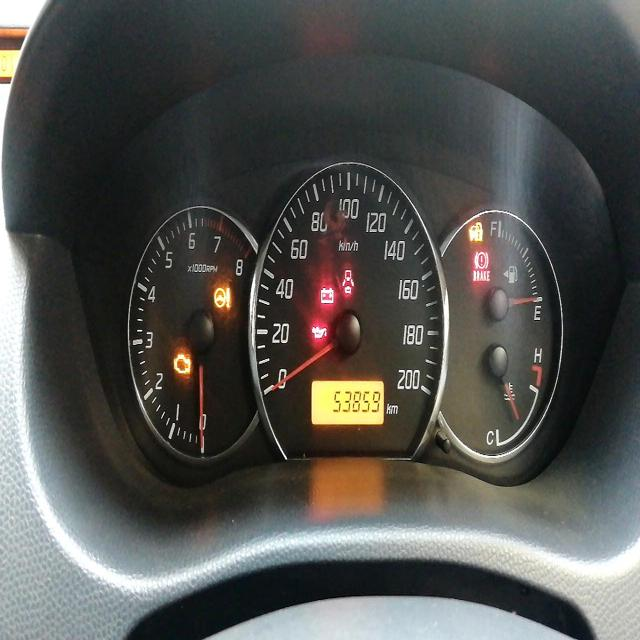odometer: (333, 387, 381, 417)
